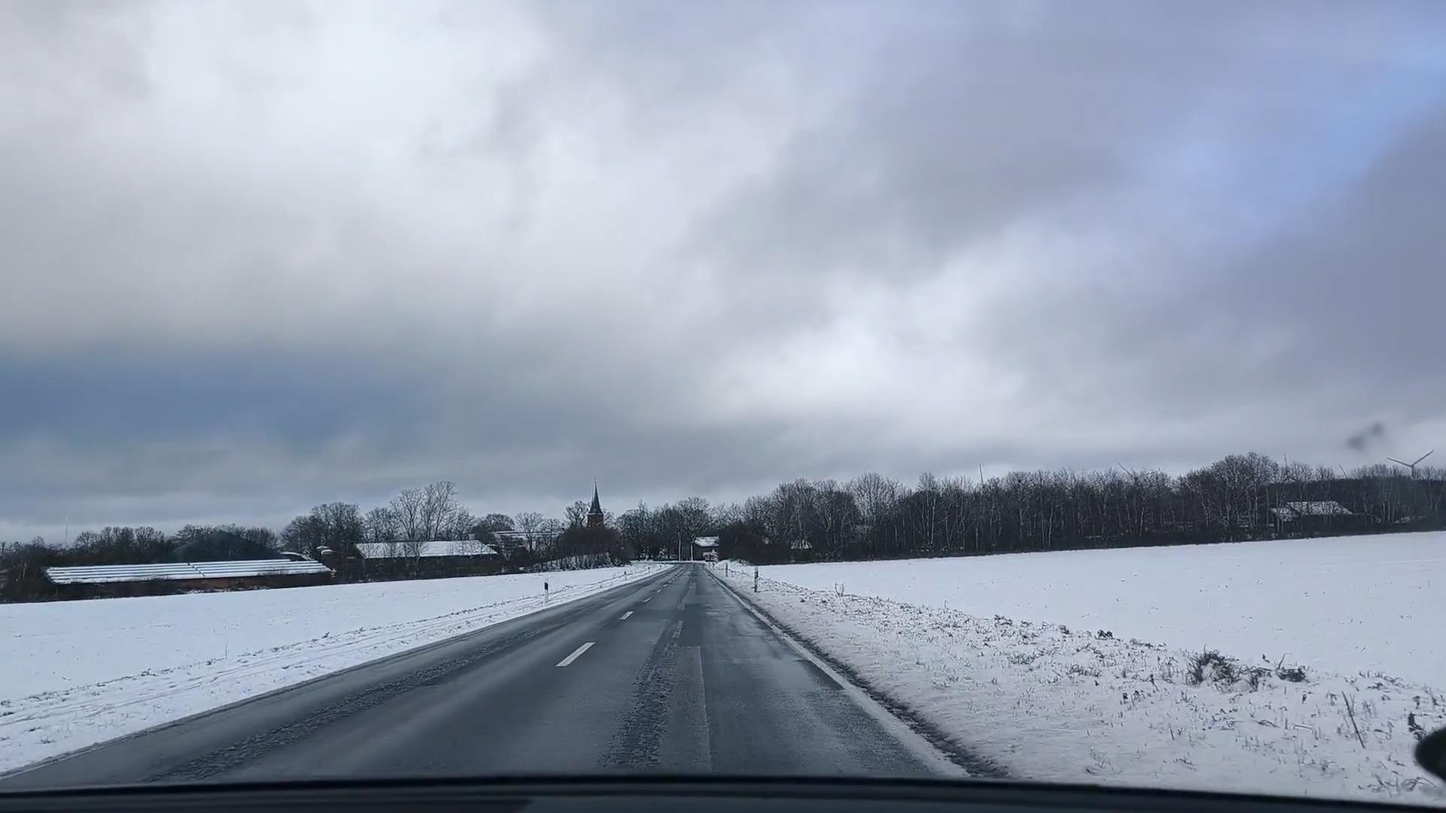Snow: (718, 531, 1446, 796), (0, 562, 644, 772)
wet: (0, 563, 972, 783)
